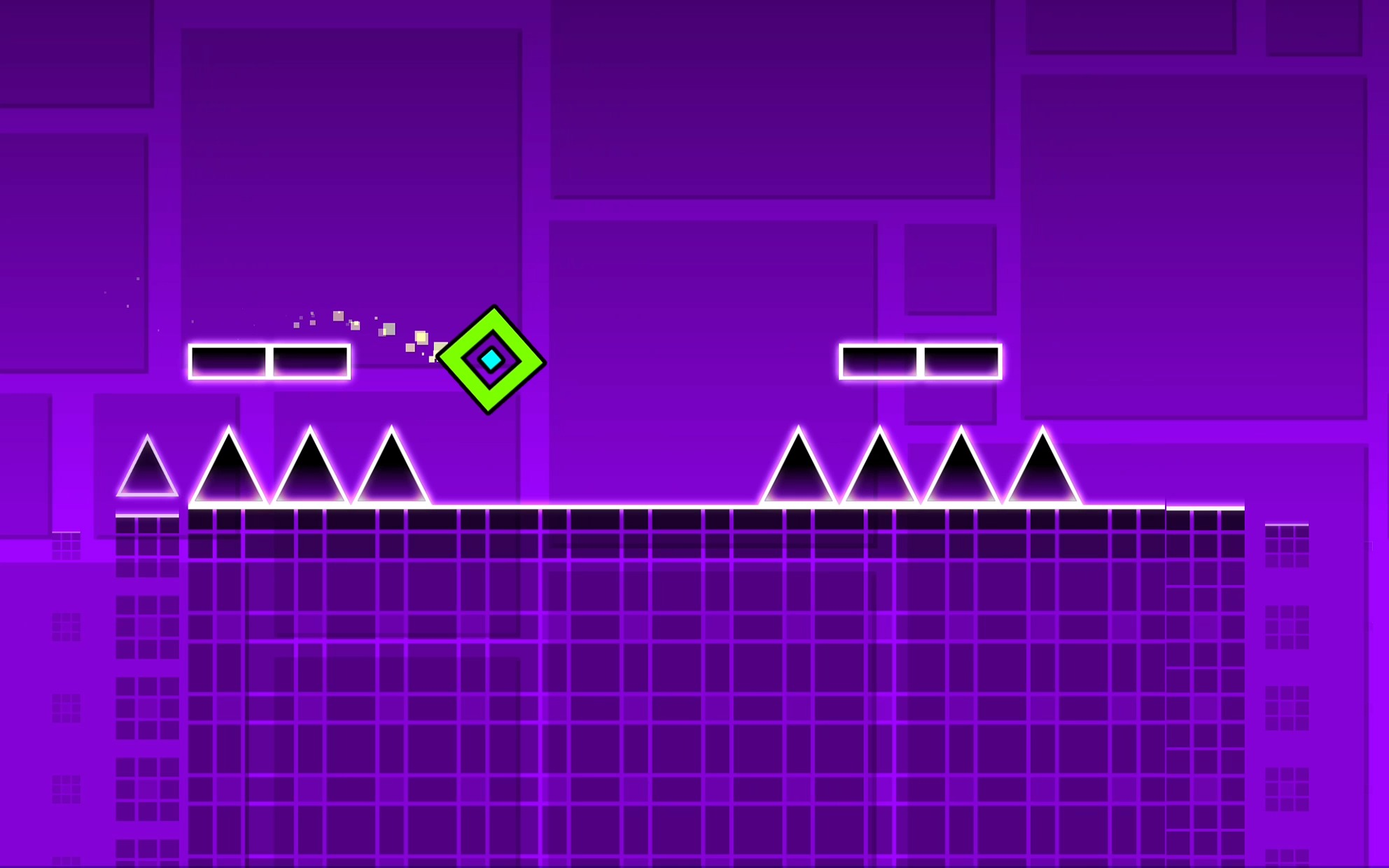Block2: (121, 504, 1253, 825)
Block3: (183, 344, 355, 380), (834, 344, 1000, 379)
Player: (434, 304, 543, 410)
Spike: (193, 428, 268, 506), (358, 429, 432, 505), (760, 428, 833, 505), (1011, 429, 1083, 504), (845, 429, 916, 504), (276, 428, 346, 504), (927, 430, 996, 504), (122, 437, 182, 497)
